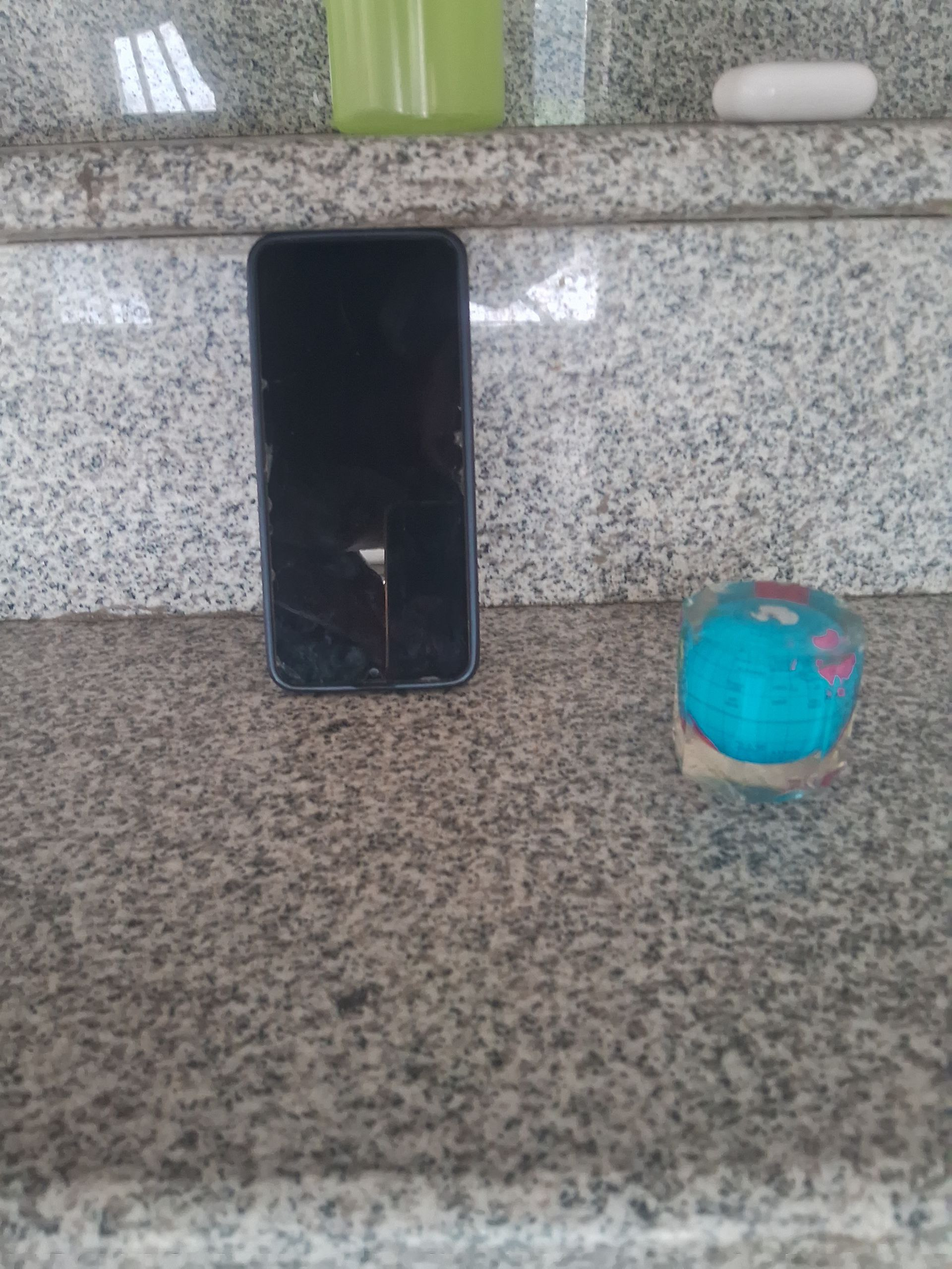Air_pod: (701, 57, 890, 132)
Smart_phone: (238, 222, 495, 702)
Water_bottle: (313, 0, 523, 144)
world_globe: (673, 572, 877, 807)
